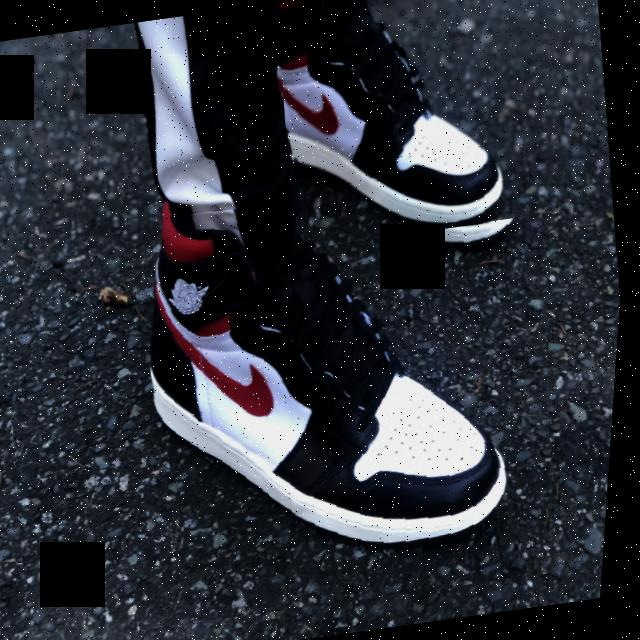shoe: (0, 156, 599, 640), (265, 0, 583, 250)
